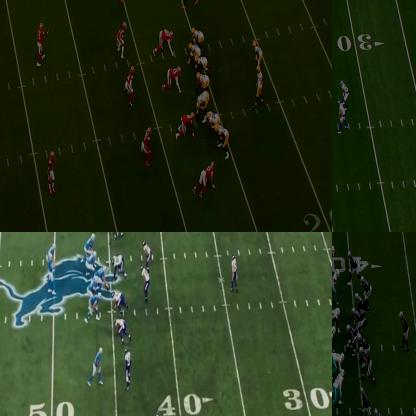CENTER: (194, 90, 210, 119), (345, 325, 357, 351), (98, 264, 109, 290)
DB: (123, 347, 134, 385), (48, 152, 56, 195), (39, 20, 45, 65), (231, 255, 238, 291)
LB: (332, 367, 345, 402), (116, 22, 126, 56), (128, 66, 136, 106), (144, 126, 152, 166), (141, 266, 150, 297), (144, 241, 152, 267), (332, 270, 339, 298), (332, 244, 337, 269)
QB: (253, 64, 263, 107), (399, 308, 409, 349), (338, 97, 348, 134), (47, 263, 55, 291)
SKILL: (90, 347, 104, 384), (360, 385, 374, 415), (186, 43, 202, 67), (360, 276, 372, 300), (347, 250, 358, 276), (253, 38, 263, 63), (192, 28, 204, 44), (341, 78, 349, 101), (374, 406, 392, 415), (46, 241, 55, 256)
